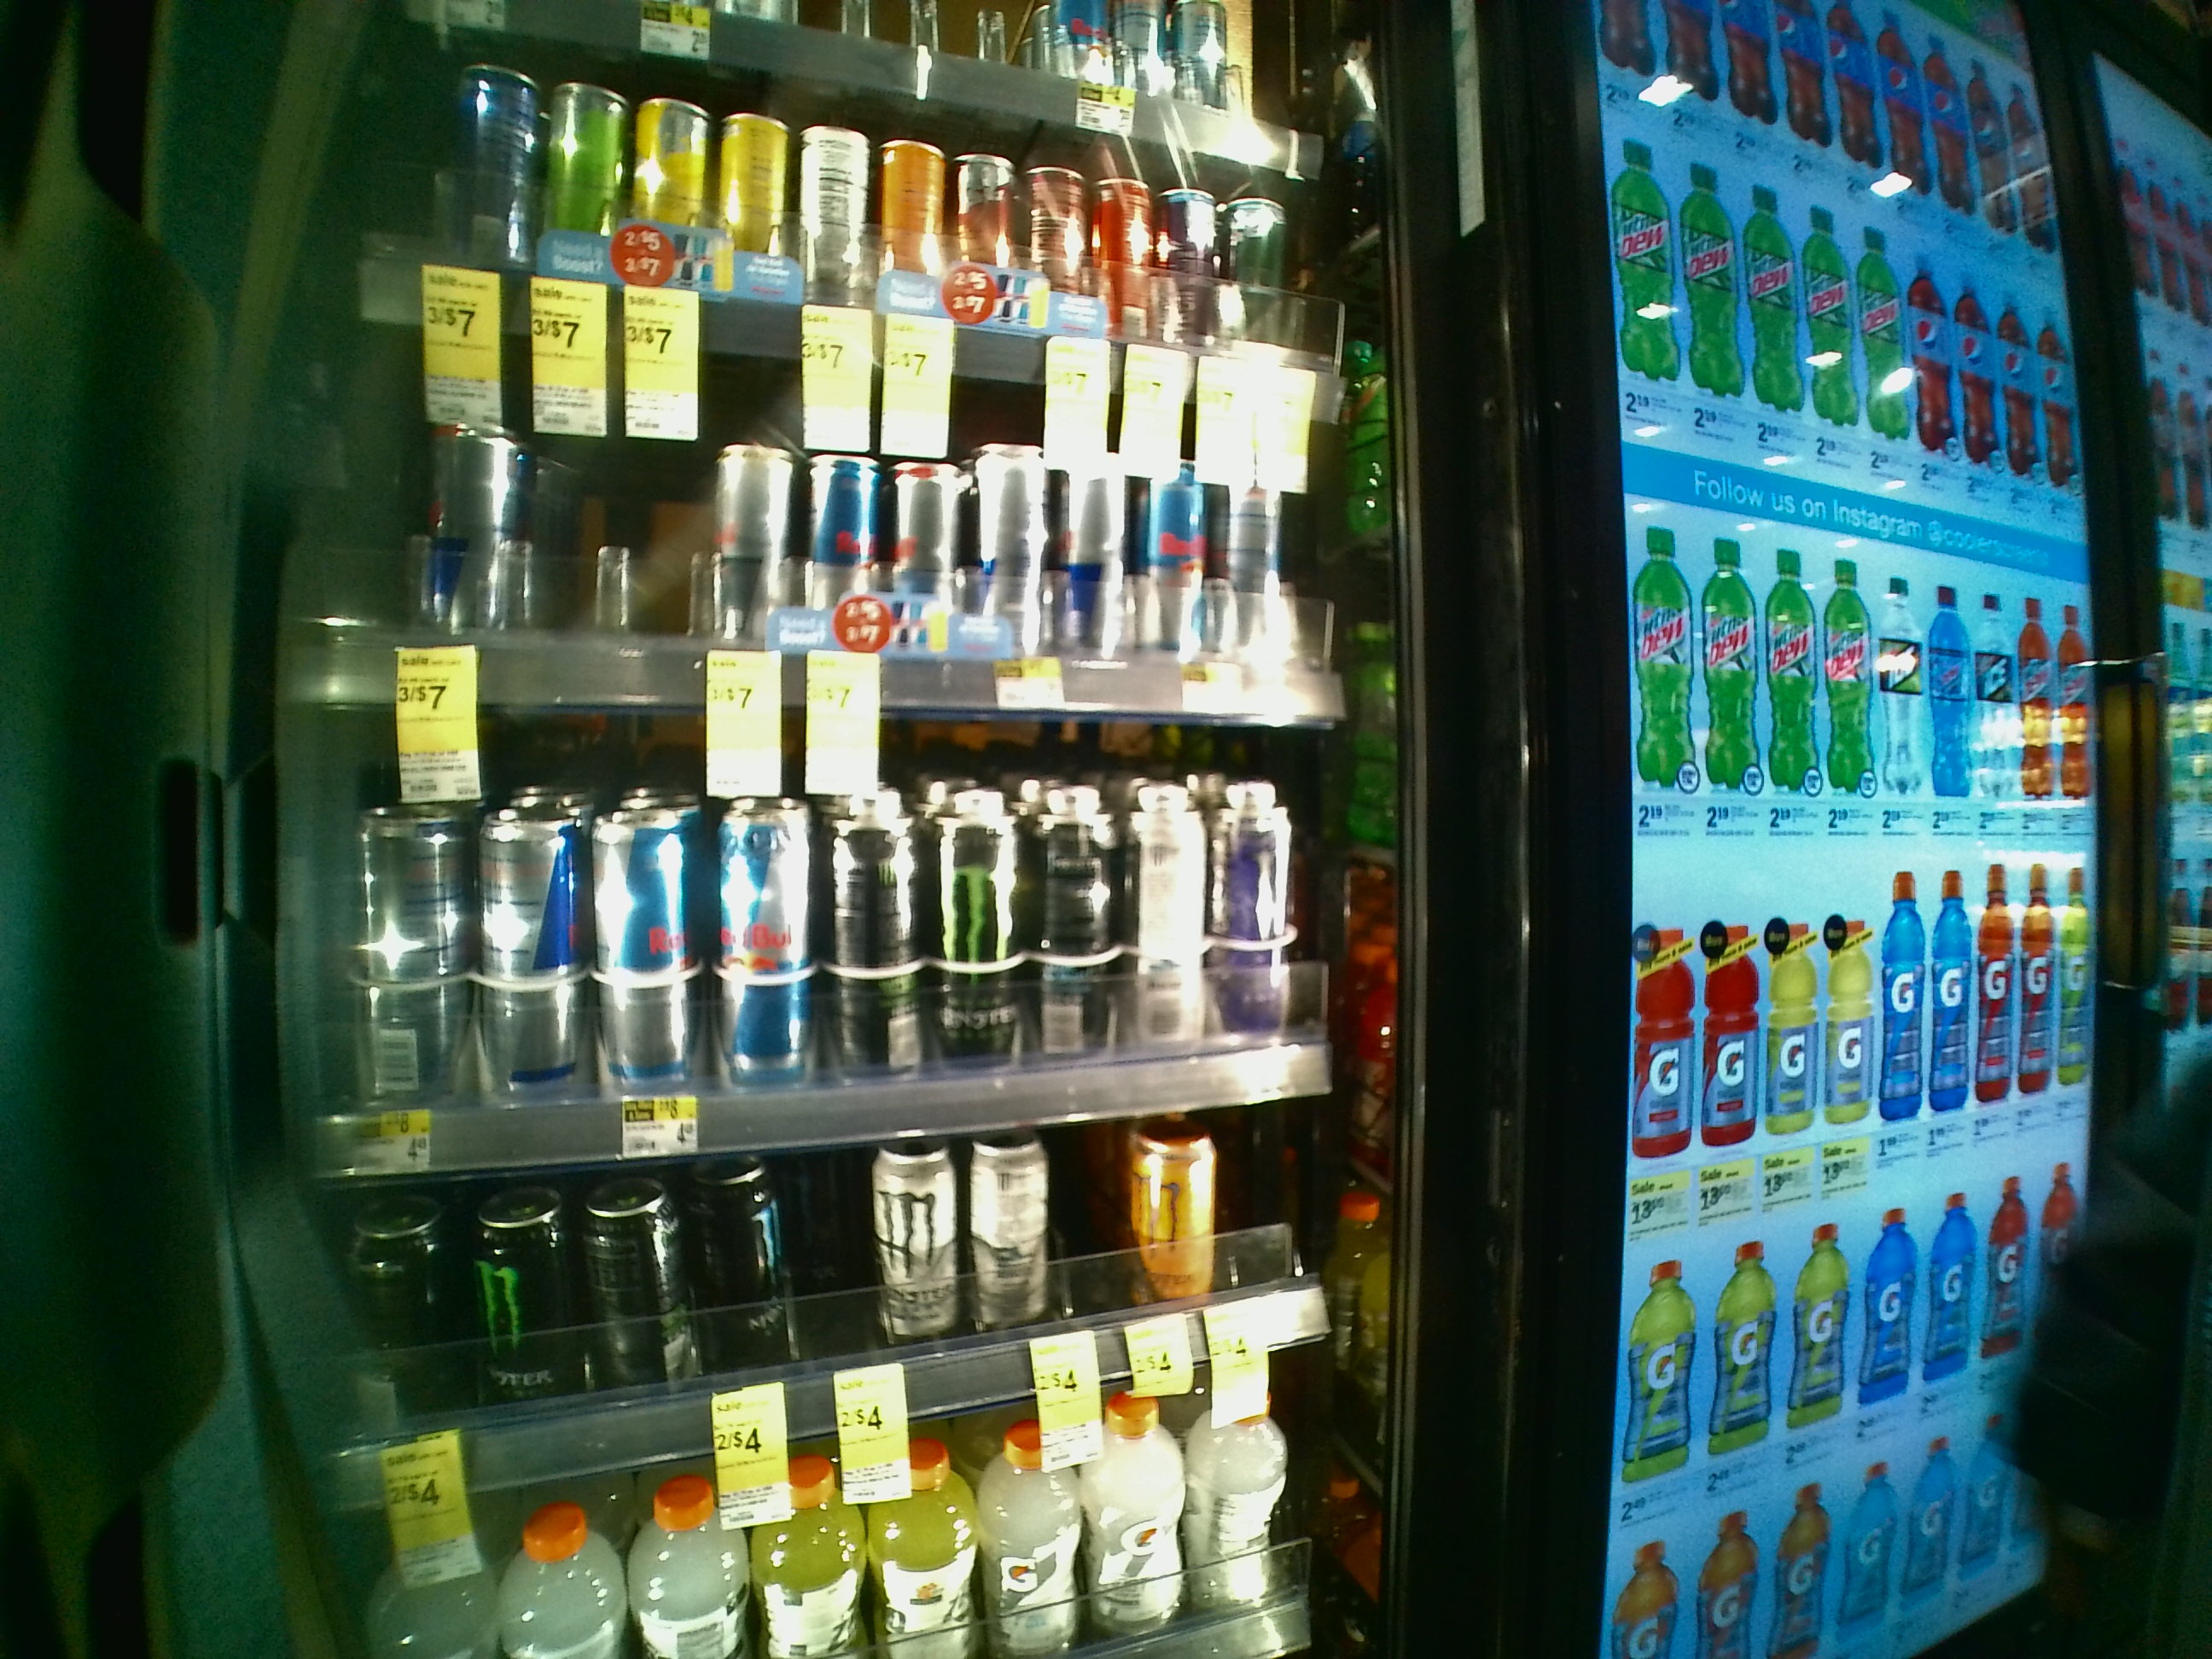shelf: (282, 695, 1425, 1150)
